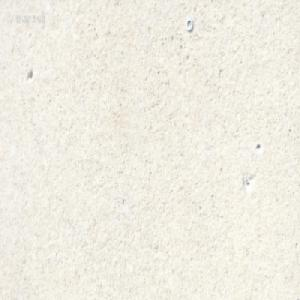Washer: (185, 17, 193, 31)
